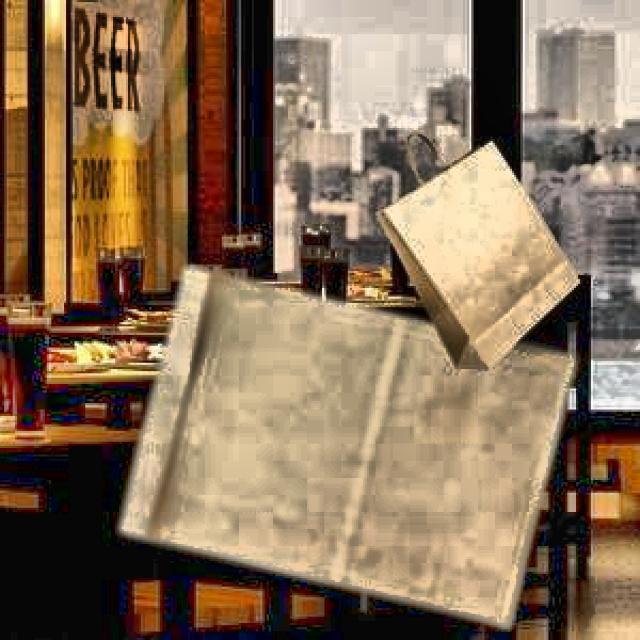Paper-bag: (101, 264, 580, 638), (374, 137, 594, 377)
